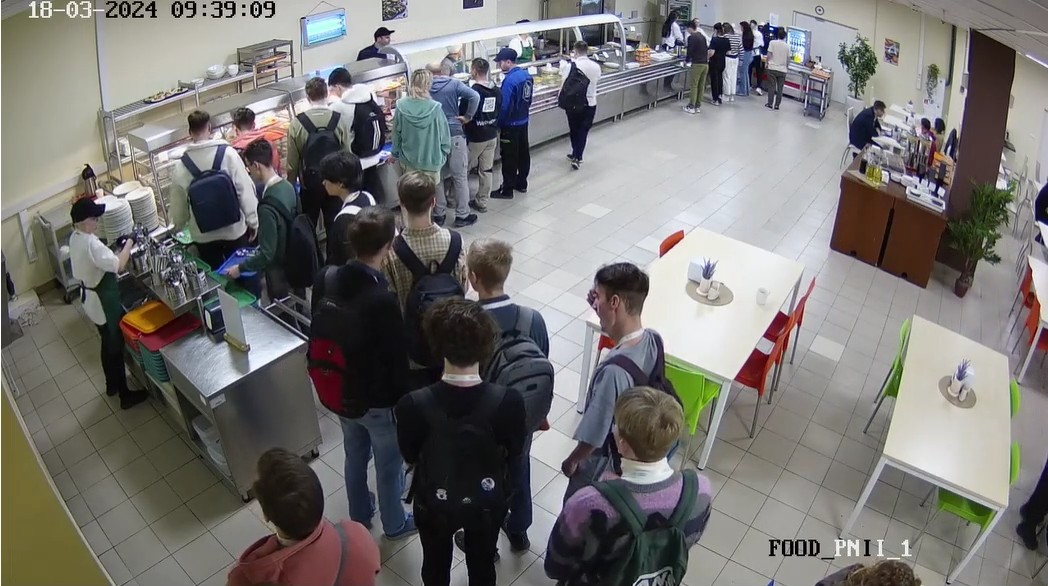Na_Kasse: (679, 24, 702, 116), (768, 29, 790, 104), (710, 18, 725, 105), (722, 23, 737, 104), (752, 16, 765, 97), (738, 18, 751, 93)
Ne_v_Ocheredi: (401, 299, 519, 586), (317, 209, 415, 535), (569, 391, 713, 586), (207, 444, 384, 586), (562, 260, 683, 465), (455, 226, 558, 449), (390, 174, 463, 304), (785, 532, 914, 586), (310, 156, 368, 227)
Personal: (65, 191, 146, 412), (507, 14, 543, 55), (433, 30, 462, 62), (362, 26, 389, 56), (658, 10, 677, 51)
Vybiraet: (212, 143, 312, 303), (172, 105, 251, 263), (415, 60, 480, 219), (391, 62, 446, 211), (492, 47, 544, 199), (283, 68, 339, 176), (457, 55, 494, 211), (332, 67, 376, 172), (563, 38, 597, 166), (233, 107, 274, 157)
Za_Stolom: (841, 97, 886, 166), (914, 112, 946, 145), (1035, 172, 1048, 238)
